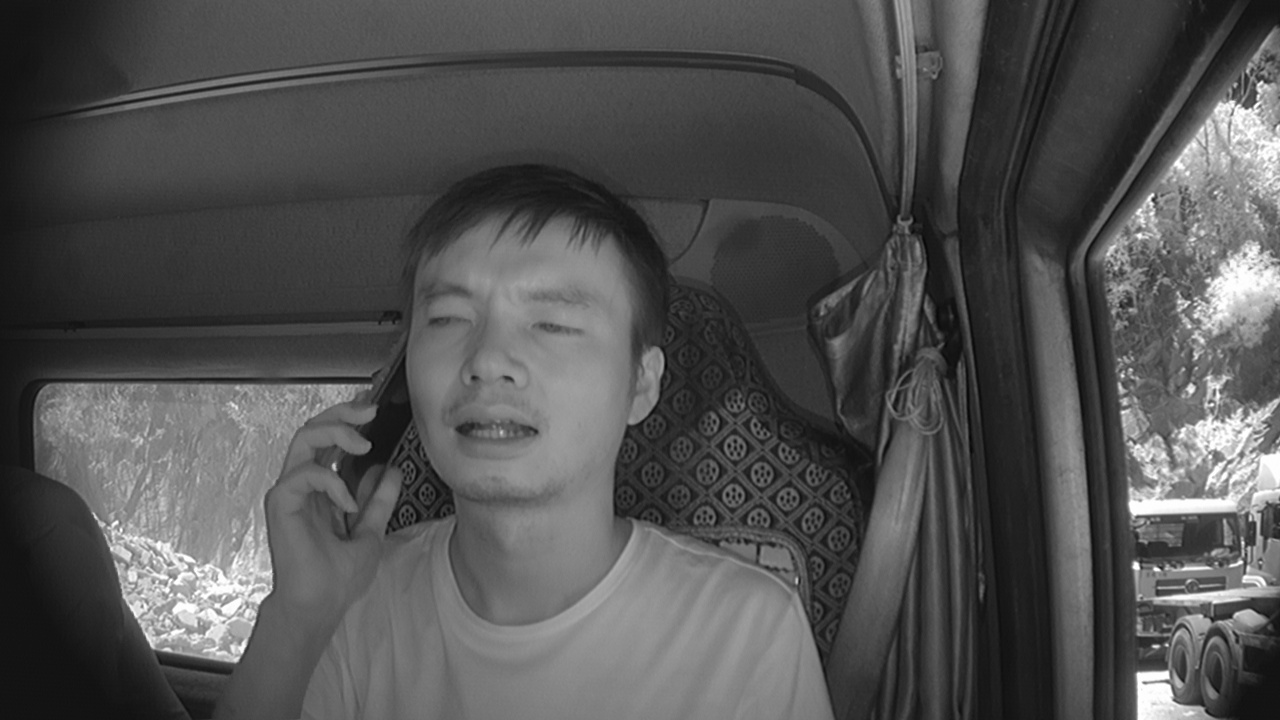hand: (256, 390, 409, 605)
